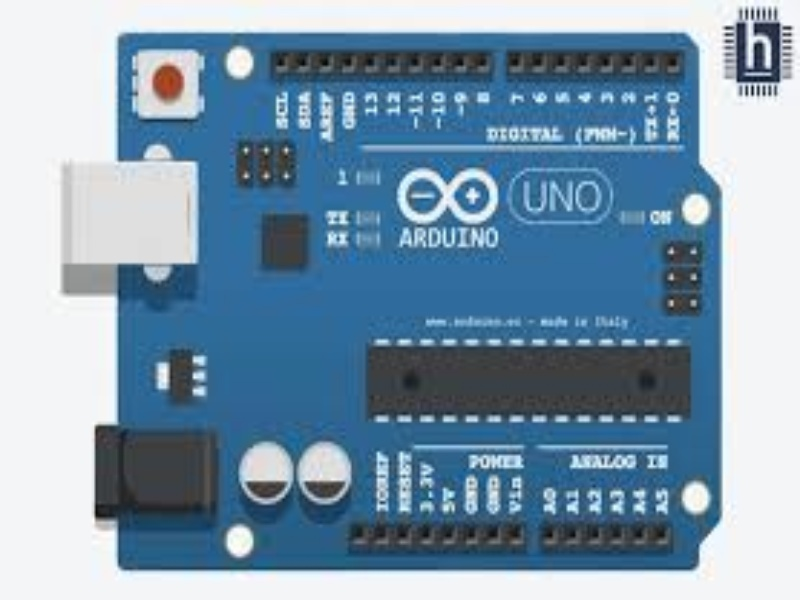uno: (56, 15, 751, 588)
